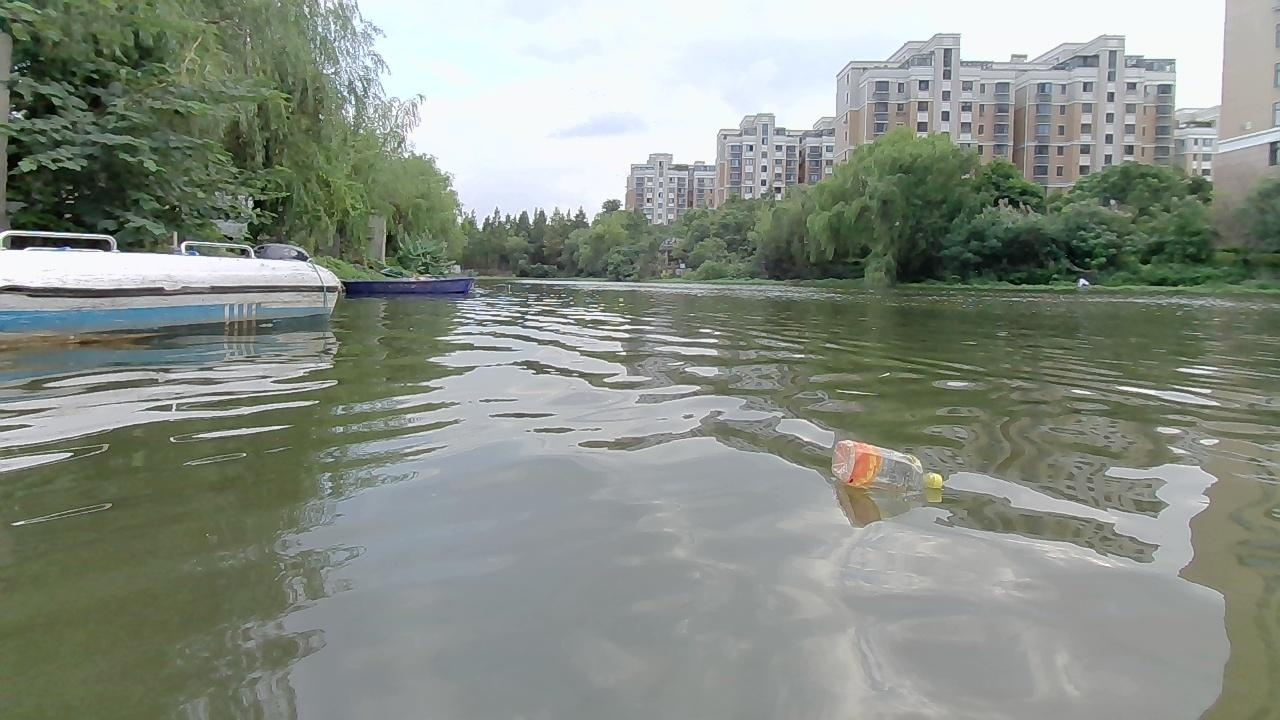bottle: (827, 435, 949, 498)
